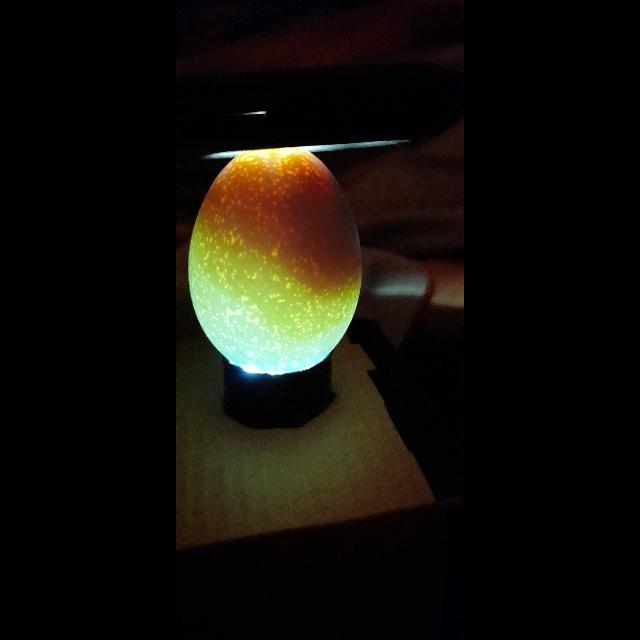Infertile: (185, 150, 362, 382)
